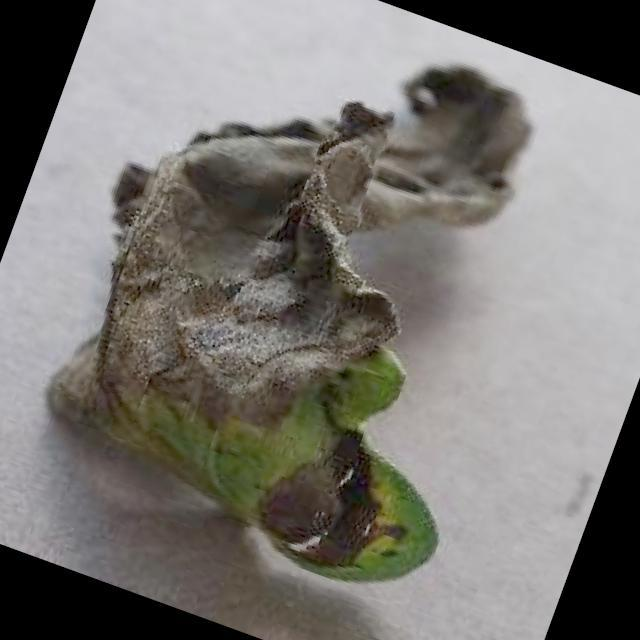Tomato Early blight leaf: (11, 0, 614, 624)
